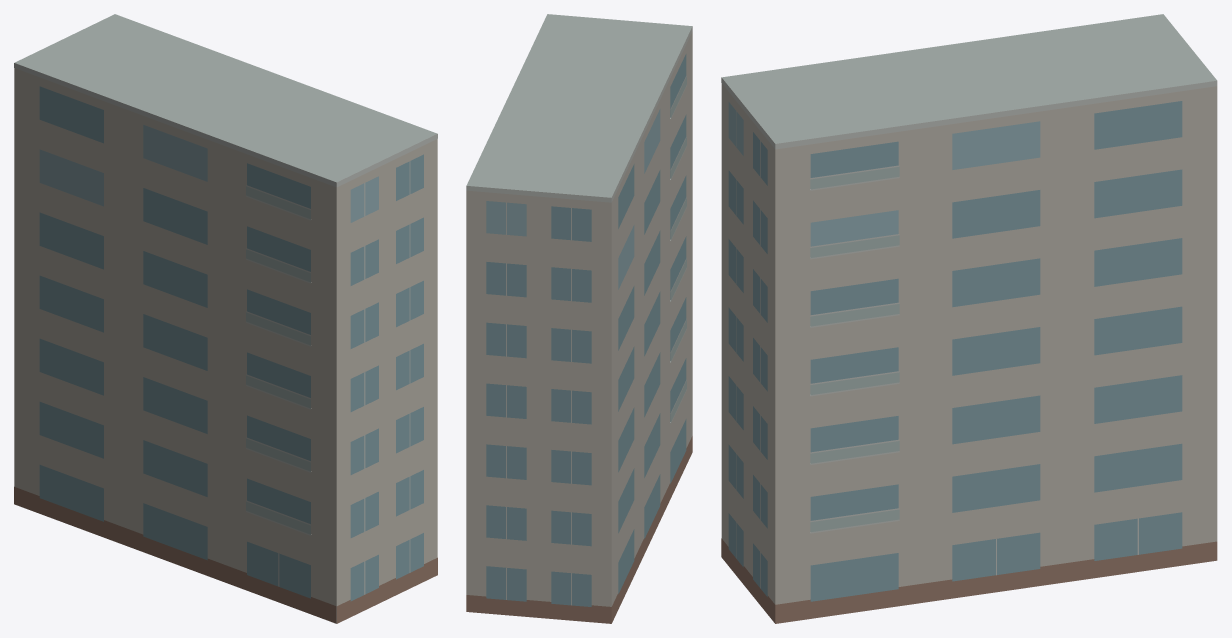
File: survey-upis-32910447.glb
The picture shows the model from 3 angles, left to right: view 1: azimuth 30°, elevation 25°; view 2: azimuth 150°, elevation 25°; view 3: azimuth 270°, elevation 25°; orthographic projection. The views are drawn at different scales.
Visible parts, largest first — view 1: survey-upis-32910447.tmp; view 2: survey-upis-32910447.tmp; view 3: survey-upis-32910447.tmp.
Part boxes in pixels (<box>): survey-upis-32910447.tmp: <box>14,14,437,623</box>; survey-upis-32910447.tmp: <box>466,14,692,623</box>; survey-upis-32910447.tmp: <box>721,14,1217,623</box>.
Size of the model in its own units: 12.41 by 21.35 by 20.
